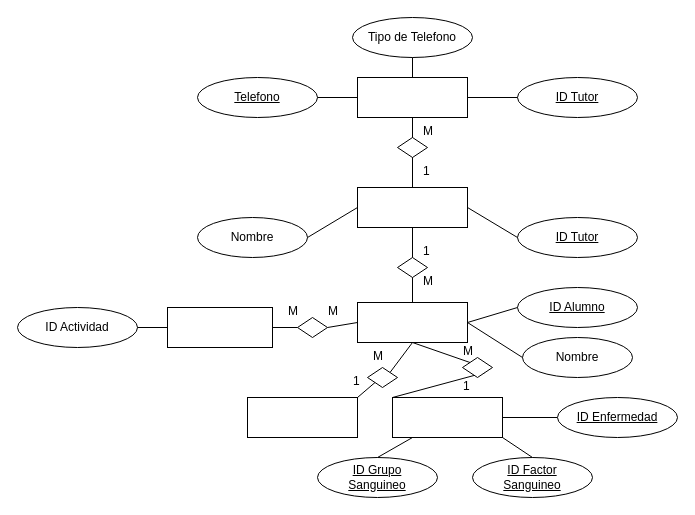
Image size: 695x515. Some labels were removed from this diagram. The shapes that lost their labels are listed below. From the top down, each one's centre as x and y in pixels, then its label:
At (412,97): "Medios de Contacto".
At (412,207): "Tutor".
At (219,327): "Actividades Complementarias".
At (412,322): "Alumnos".
At (302,417): "Maestros".
At (447,417): "Salud".
